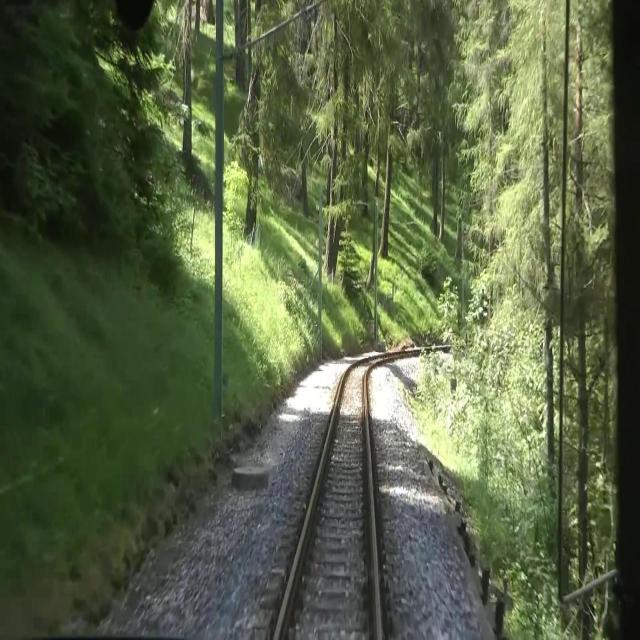rail-track: (278, 361, 376, 639)
